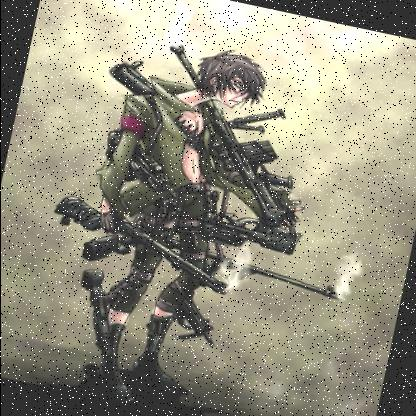rifle: (141, 31, 313, 221), (47, 186, 238, 296), (158, 272, 223, 347)
